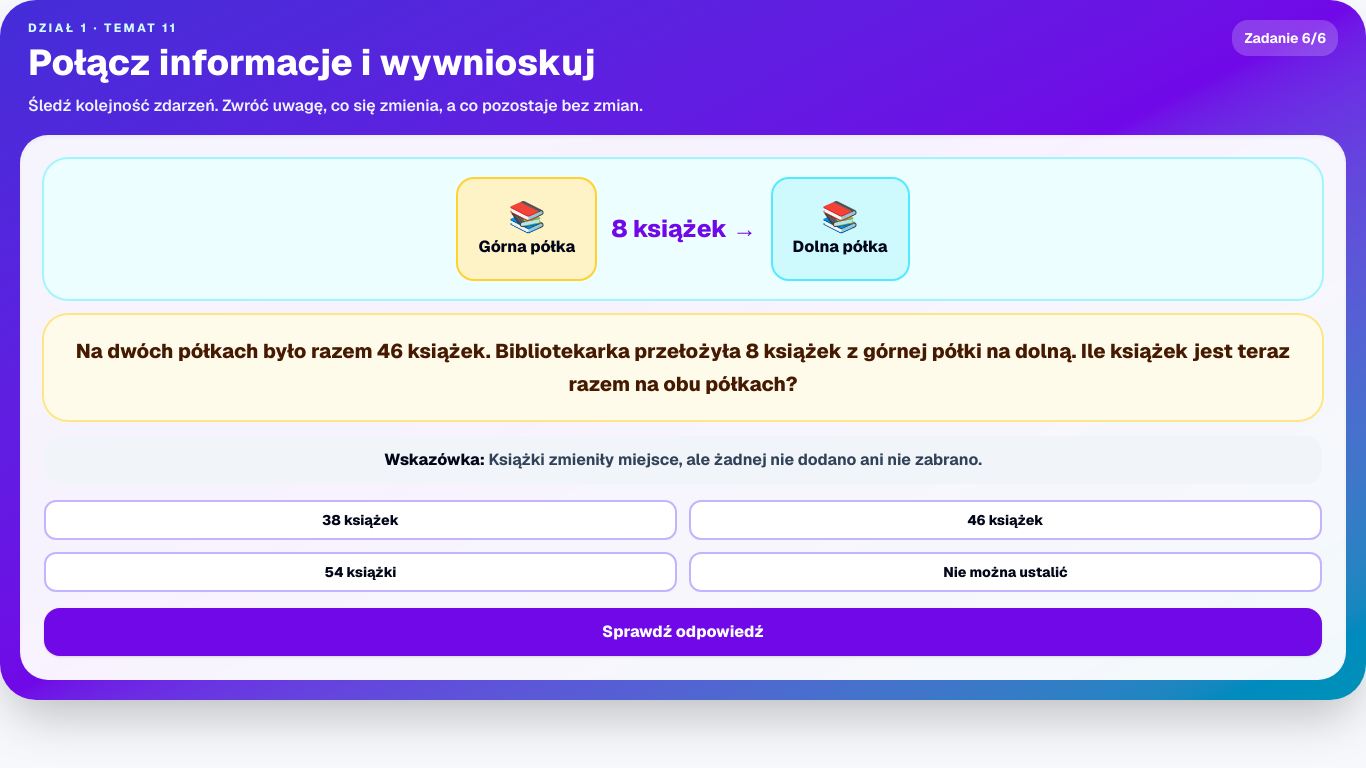
Scenario: Grade4ReadingInformationTwoLessonLab › po błędnym wniosku pokazuje neutralną informację zwrotną
Click the button "38 książek" at (360, 520), box [44,500,677,540]
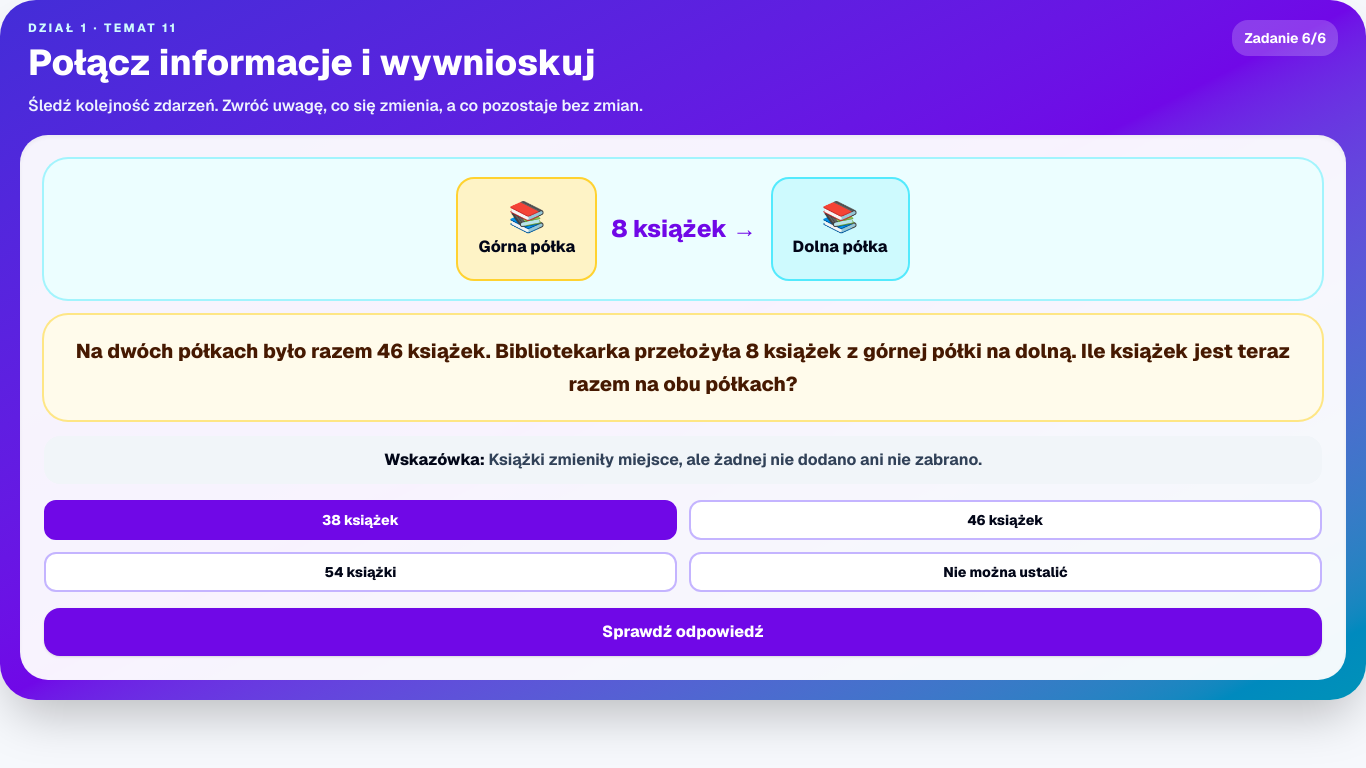
Click the button "Sprawdź odpowiedź" at (683, 632), box [44,608,1322,656]
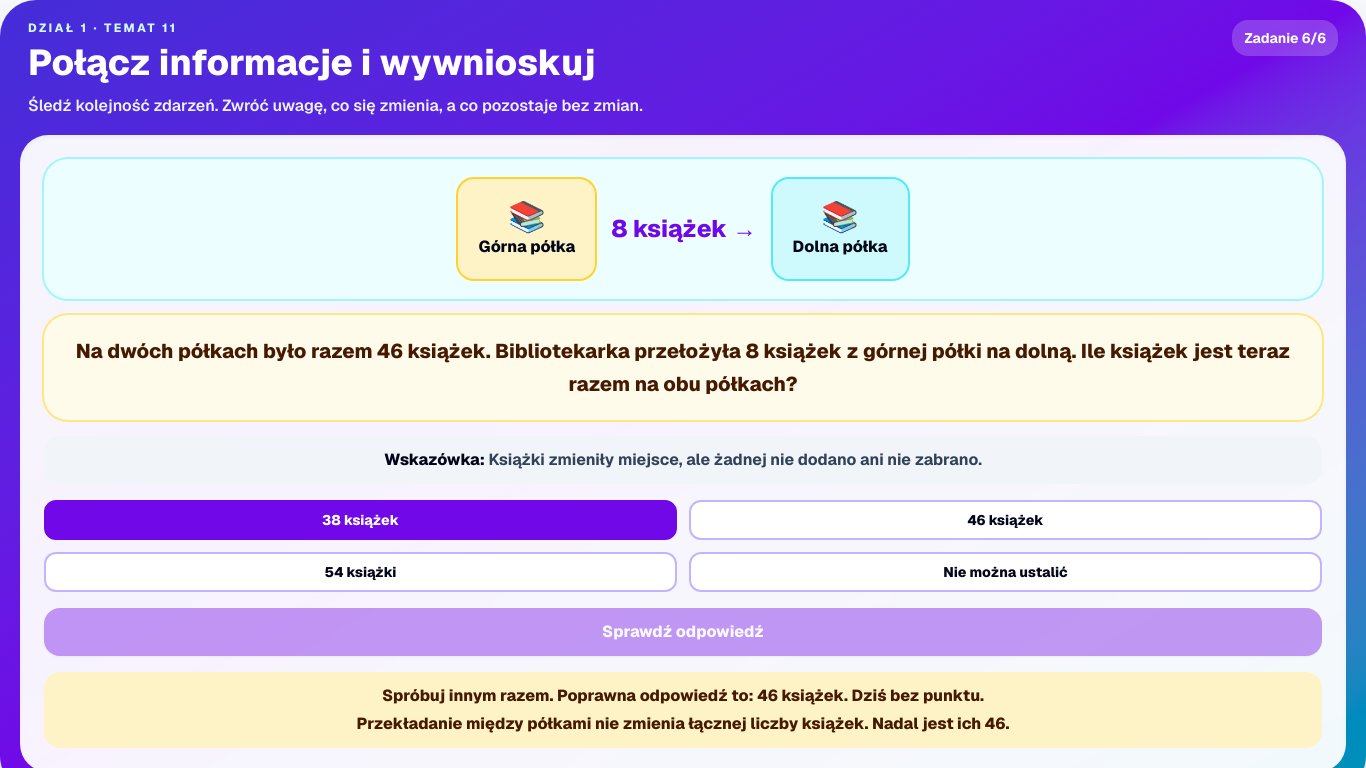
Result: the message shows "Spróbuj innym razem. Poprawna odpowiedź to: 46 książek. Dziś bez punktu." at [44,672,1322,748]
